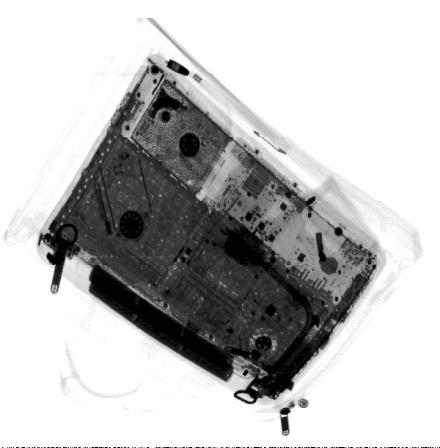Bullet: (165, 58, 193, 78)
